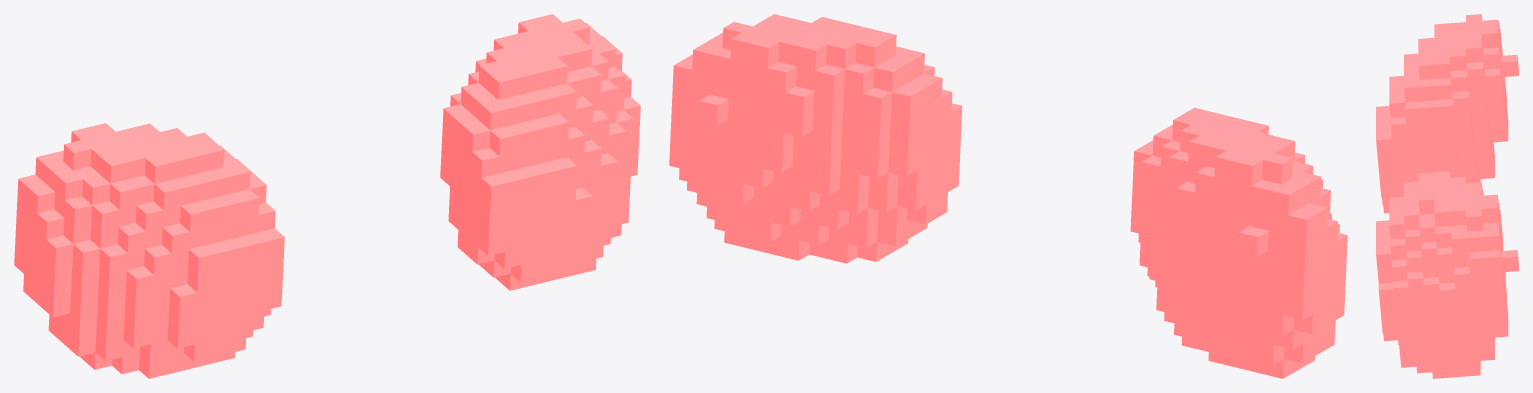
Rendered from orange-intense.gltf.
3 views of the same model, side by side, from view 1: azimuth 30°, elevation 25°; view 2: azimuth 150°, elevation 25°; view 3: azimuth 270°, elevation 25° (orthographic). The views are drawn at different scales.
Parts seen in each view (by area): view 1: 眼睛.1; view 2: 眼睛.1; view 3: 眼睛.1.
Boxes of the visible parts, x1,y1,x2,y2 form: 眼睛.1: [14, 14, 640, 378]; 眼睛.1: [669, 14, 1347, 378]; 眼睛.1: [1376, 14, 1518, 378].
Bounding box in the file's own units: 2.72 × 0.9235 × 0.7175.
